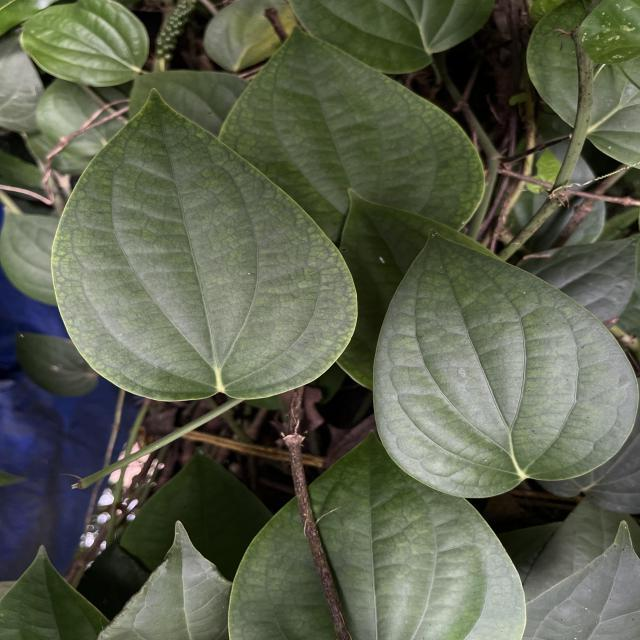Piper nigrum: (48, 86, 360, 404), (370, 227, 640, 500)
